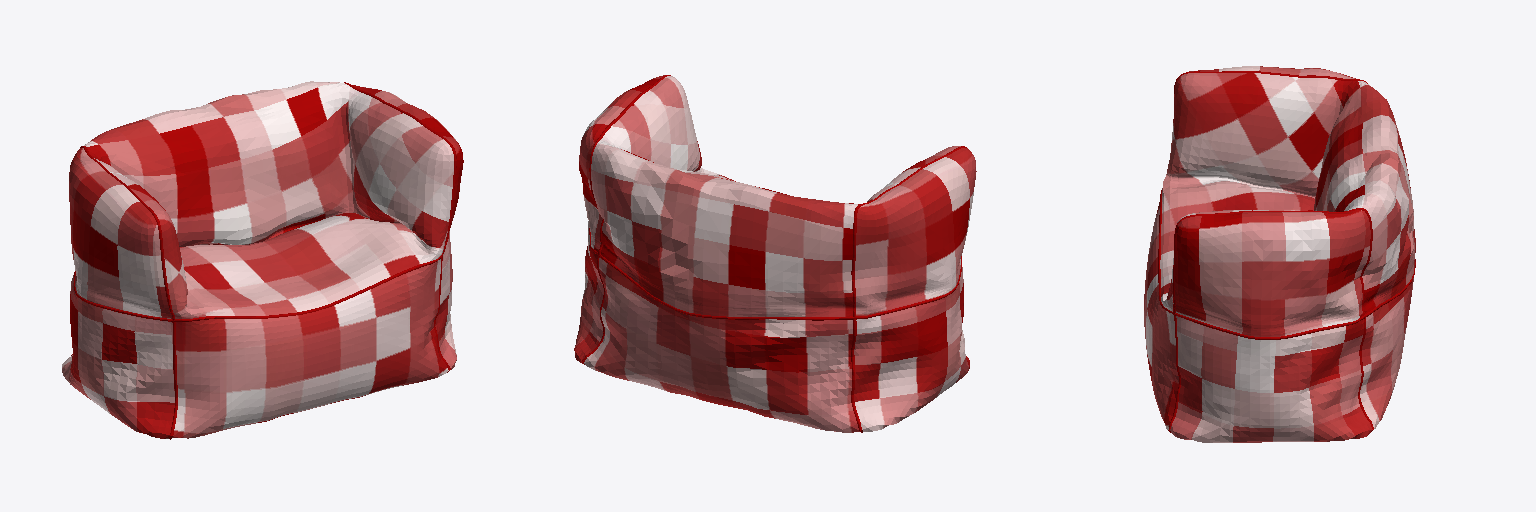
3 views of the same model, side by side, from view 1: azimuth 30°, elevation 25°; view 2: azimuth 150°, elevation 25°; view 3: azimuth 270°, elevation 25° (orthographic).
Parts seen in each view (by area): view 1: bag_chair; view 2: bag_chair; view 3: bag_chair.
Boxes of the visible parts, <box> form: bag_chair: <box>62,81,463,439</box>; bag_chair: <box>574,75,976,432</box>; bag_chair: <box>1144,66,1415,442</box>.
Bounding box in the file's own units: 0.9442 × 0.5799 × 0.6182.
Materials: 1 (1 with a texture image).